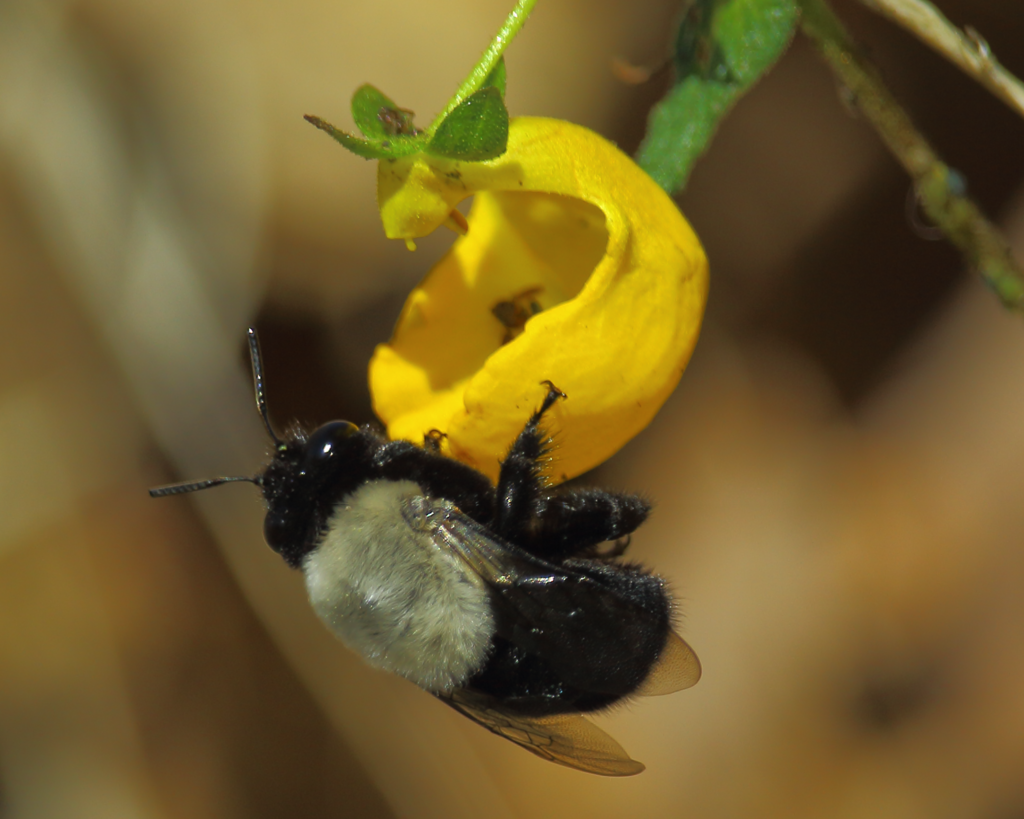not_bumblebee: (146, 324, 705, 780)
